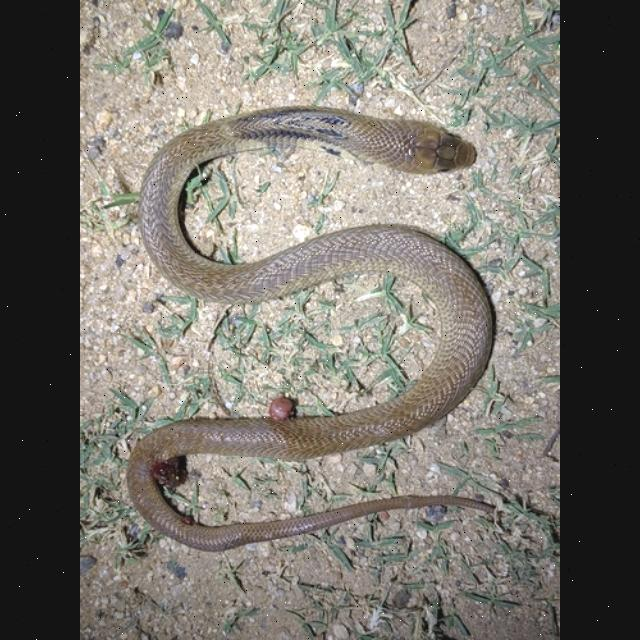snake: (131, 89, 523, 576)
